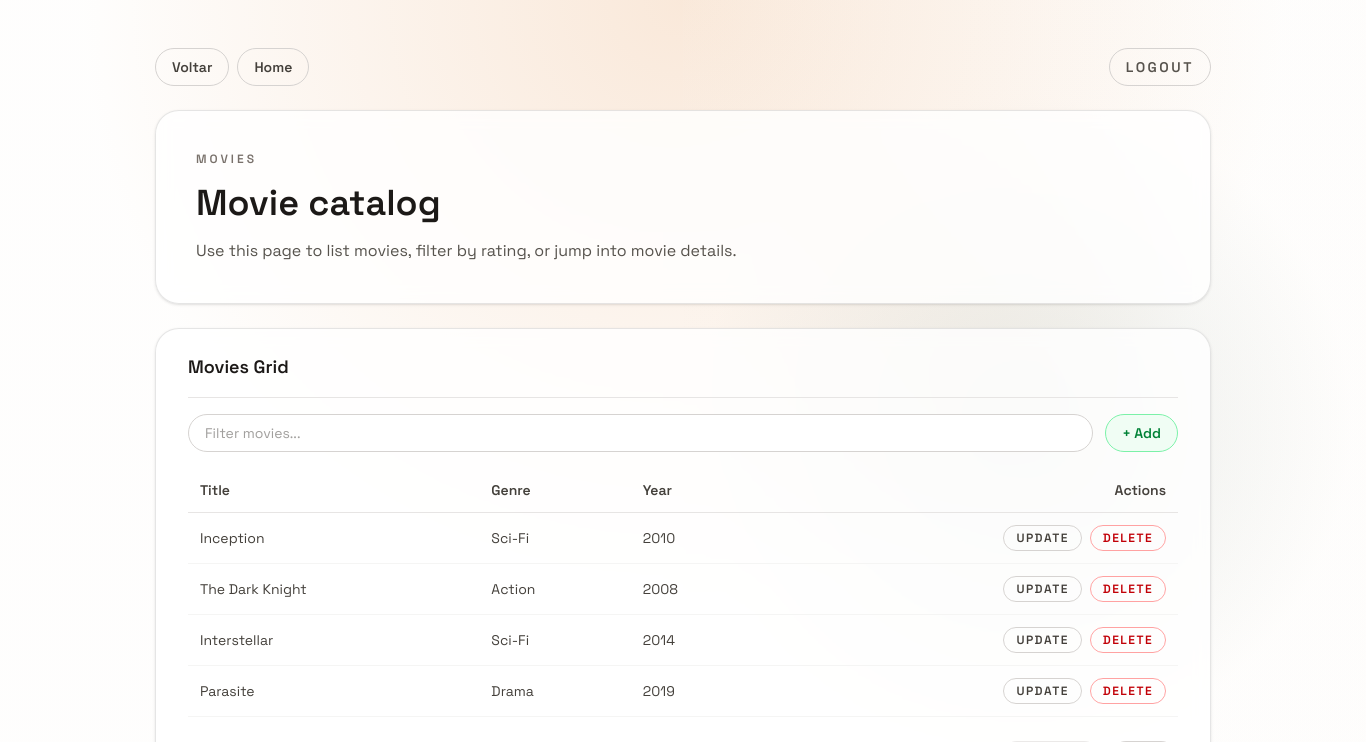
MoviesPage › displays correct actors for selected movie
The width and height of the screenshot is (1366, 742).
Step 1. Click the text "Inception" → {"x": 232, "y": 538}, box top-left (188, 512), bottom-right (479, 564)
(page scrolled)
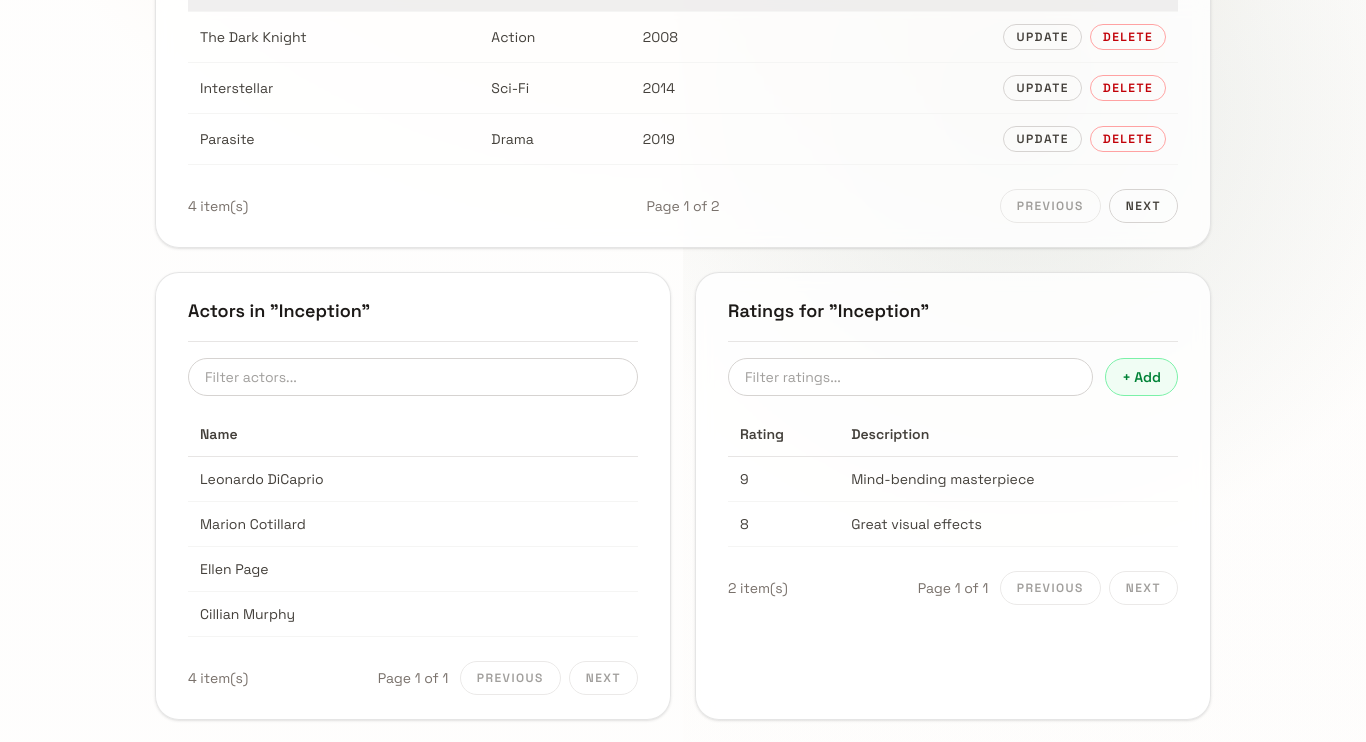
Now the text "Leonardo DiCaprio" is shown, box top-left (188, 456), bottom-right (638, 502)
Now the text "Marion Cotillard" is shown, box top-left (188, 502), bottom-right (638, 546)
Now the text "Ellen Page" is shown, box top-left (188, 546), bottom-right (638, 592)
